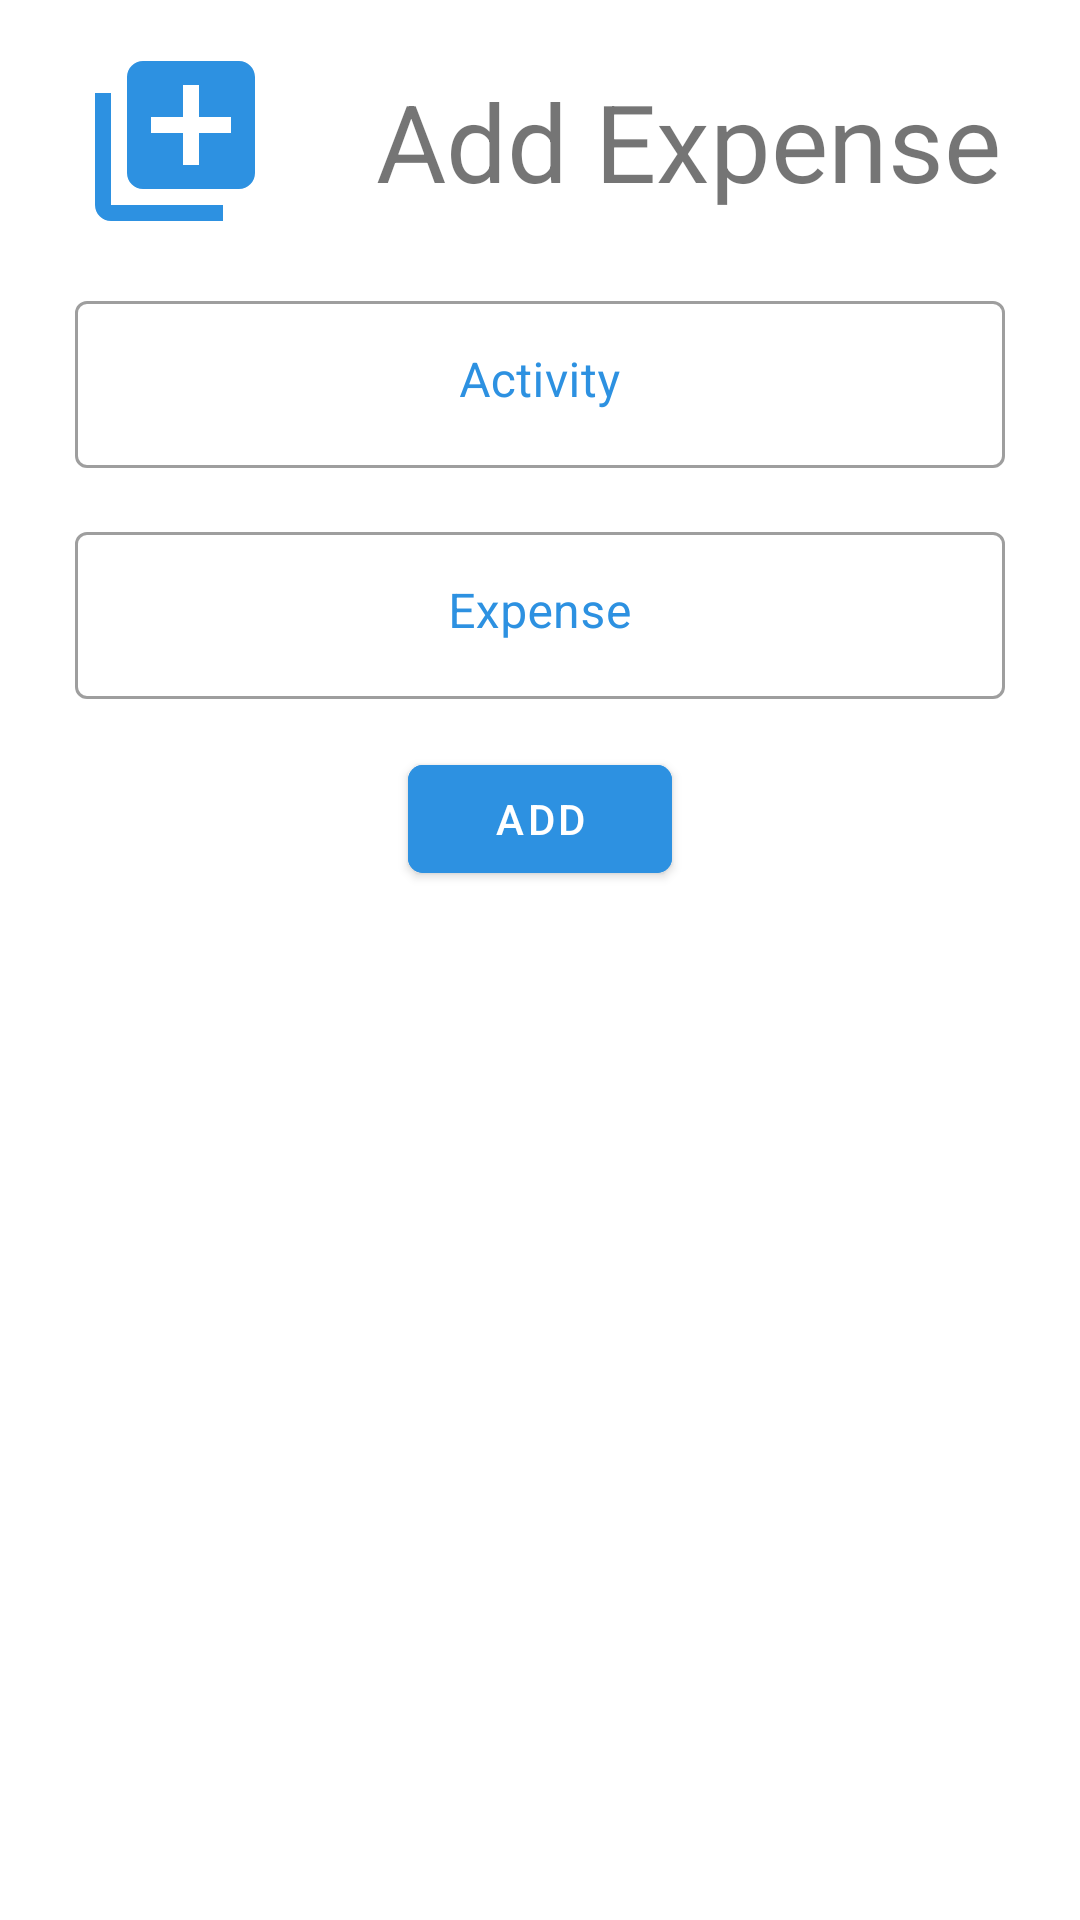

Named icons in this screenshot (1080x1920) and their centers, [x,y]:
library add: [175,141]
